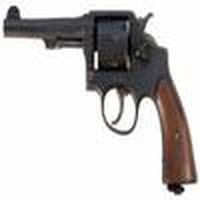gun: (2, 3, 200, 190)
